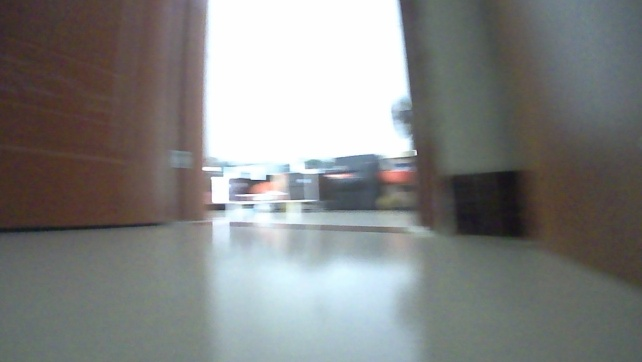door_anno: (0, 0, 210, 230)
